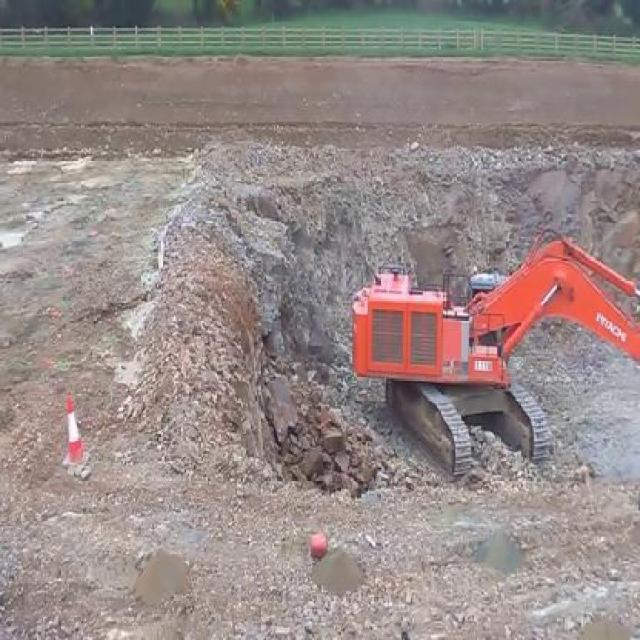Excavator: (352, 228, 639, 482)
